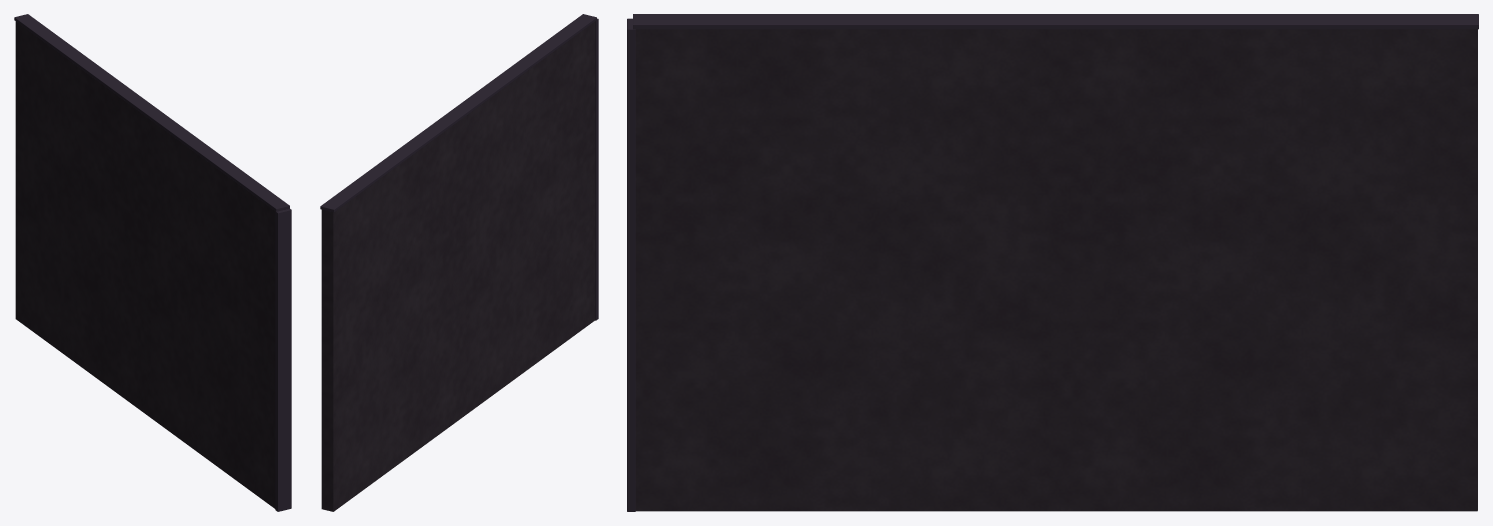
File: parede_esquerda.glb
The picture shows the model from 3 angles, left to right: view 1: azimuth 30°, elevation 25°; view 2: azimuth 150°, elevation 25°; view 3: azimuth 270°, elevation 25°; orthographic projection. The views are drawn at different scales.
Parts seen in each view (by area): view 1: parede_esquerda; view 2: parede_esquerda; view 3: parede_esquerda.
Part boxes in pixels (left/top/right/bottom): parede_esquerda: left=14, top=14, right=291, bottom=511; parede_esquerda: left=320, top=14, right=598, bottom=511; parede_esquerda: left=627, top=14, right=1478, bottom=511.
Bounding box in the file's own units: 0.126 × 2.62 × 4.16.
2 materials, 1 textured.
